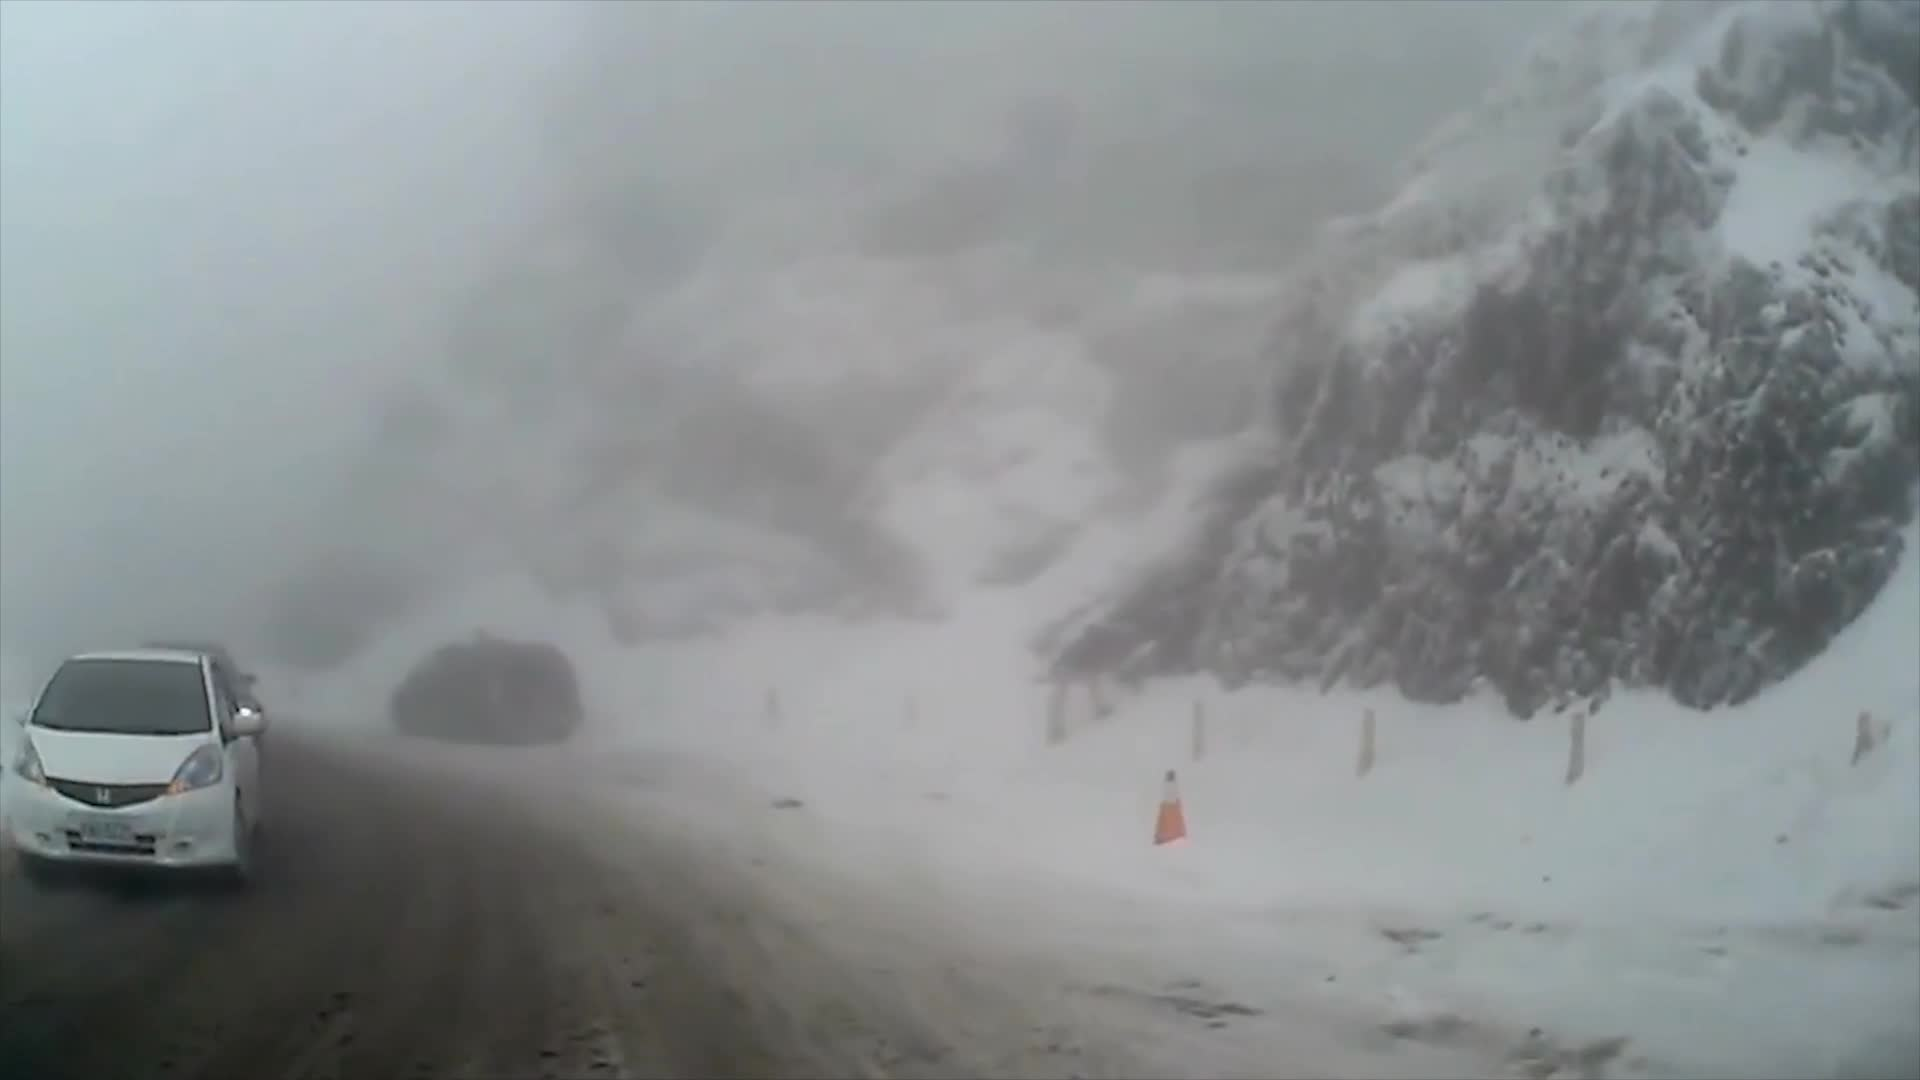vehicle: (0, 647, 261, 898), (396, 647, 585, 756)
